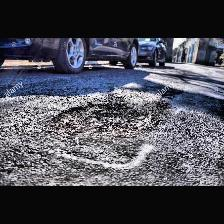pothole: (50, 100, 173, 142)
